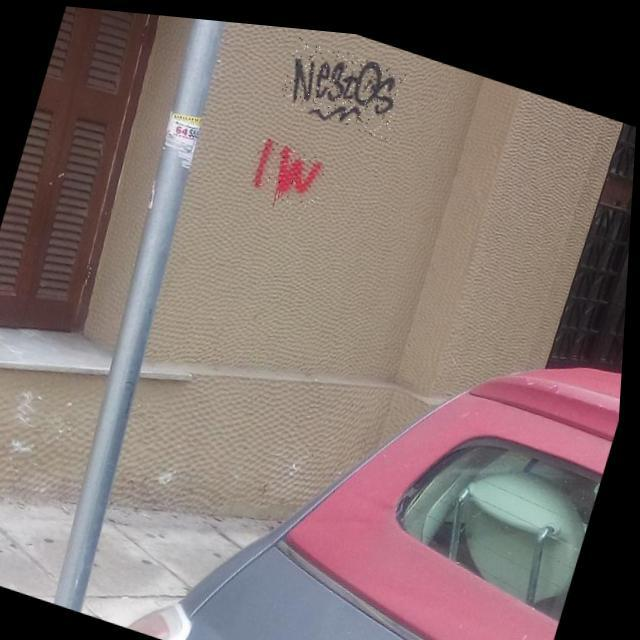-: (277, 29, 408, 133), (246, 130, 332, 206)
